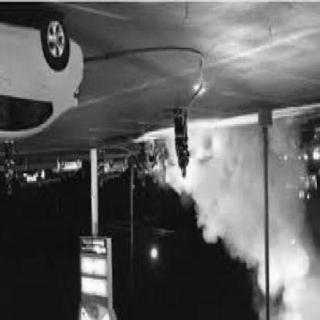Fire: (147, 142, 214, 206)
Smoke: (199, 126, 307, 296)
